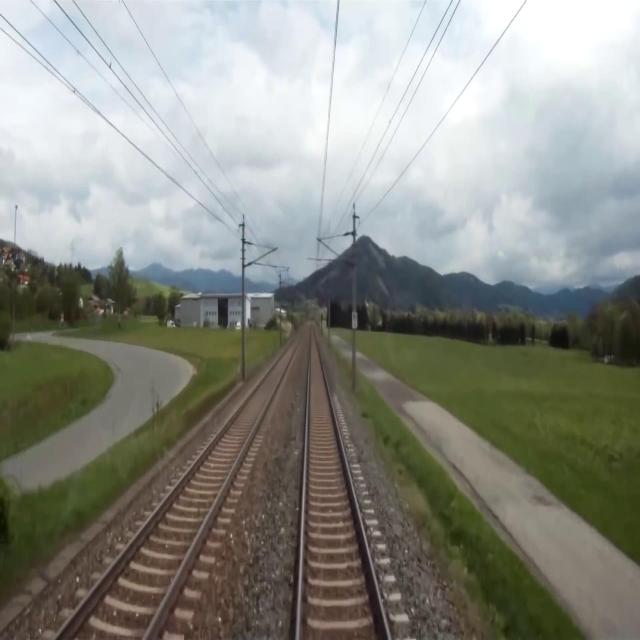rail-track: (58, 334, 300, 639), (300, 325, 387, 639)
